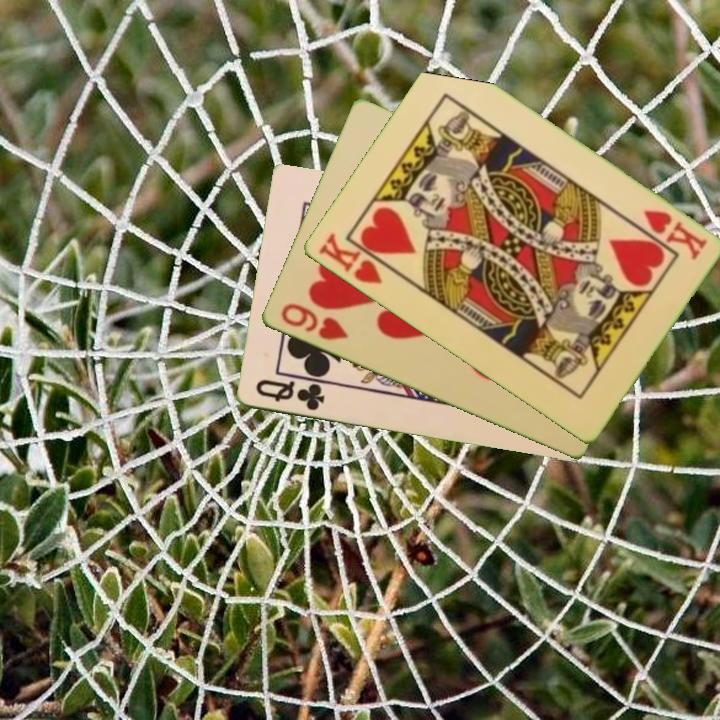9h: (277, 300, 351, 343)
Kh: (314, 229, 397, 288), (638, 206, 710, 264)
Qc: (252, 376, 328, 414)
